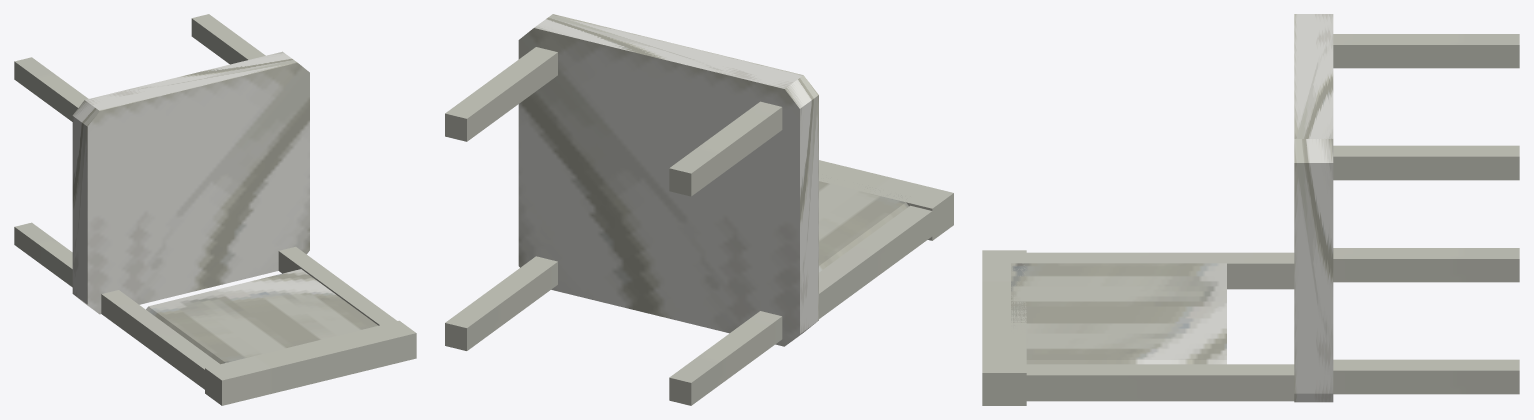
File: pz_chair_seating_outdoor_01_plastic.obj
3 views of the same model, side by side, from view 1: azimuth 30°, elevation 25°; view 2: azimuth 150°, elevation 25°; view 3: azimuth 270°, elevation 25° (orthographic). The views are drawn at different scales.
Bounding box in the file's own units: 0.64 × 0.575 × 1.03.
1 material, 1 textured.
